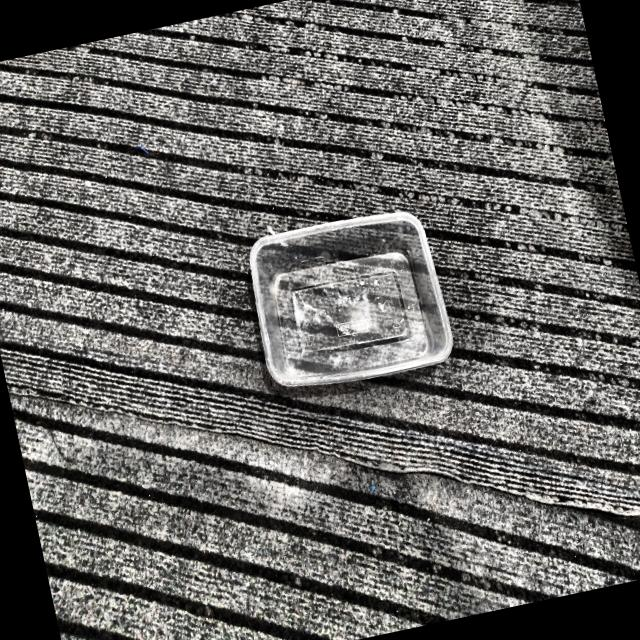plastic container: (249, 212, 452, 386)
